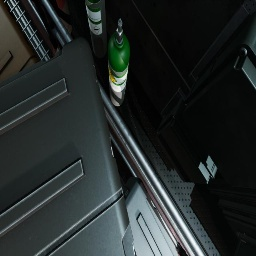0: (108, 18, 130, 106), (85, 0, 107, 58)
NitrogenTank ,: (42, 0, 72, 41)
